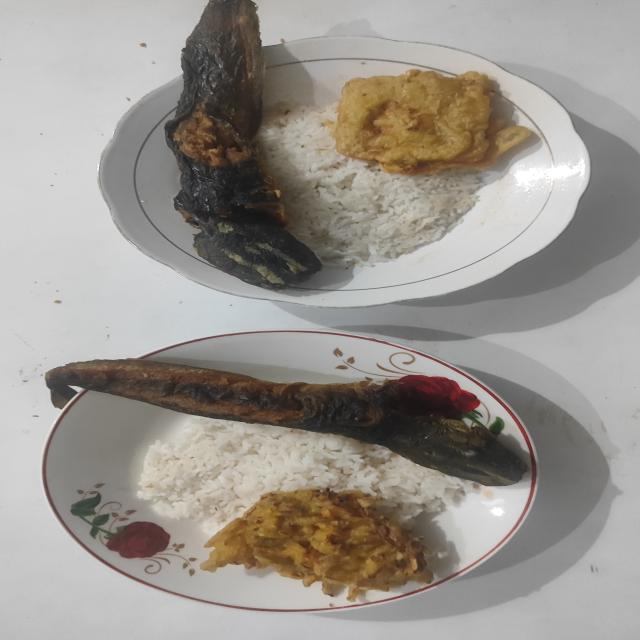nasi_putih: (137, 416, 469, 535), (258, 102, 486, 268)
